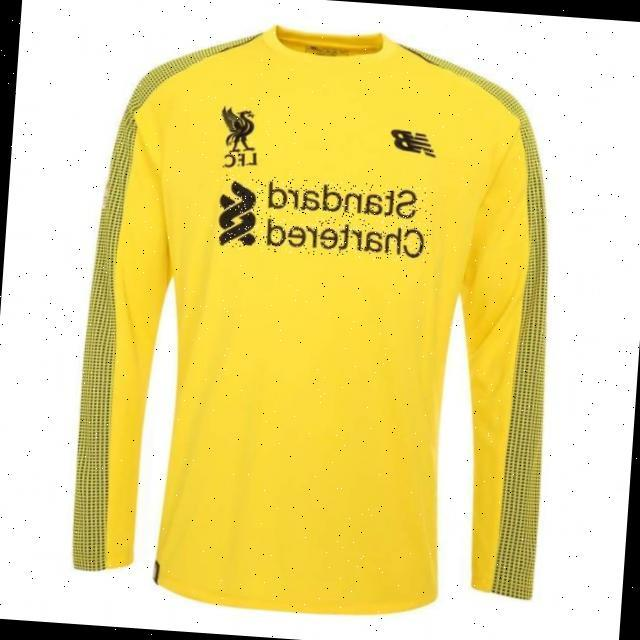Standard Chartered: (217, 173, 434, 262)
